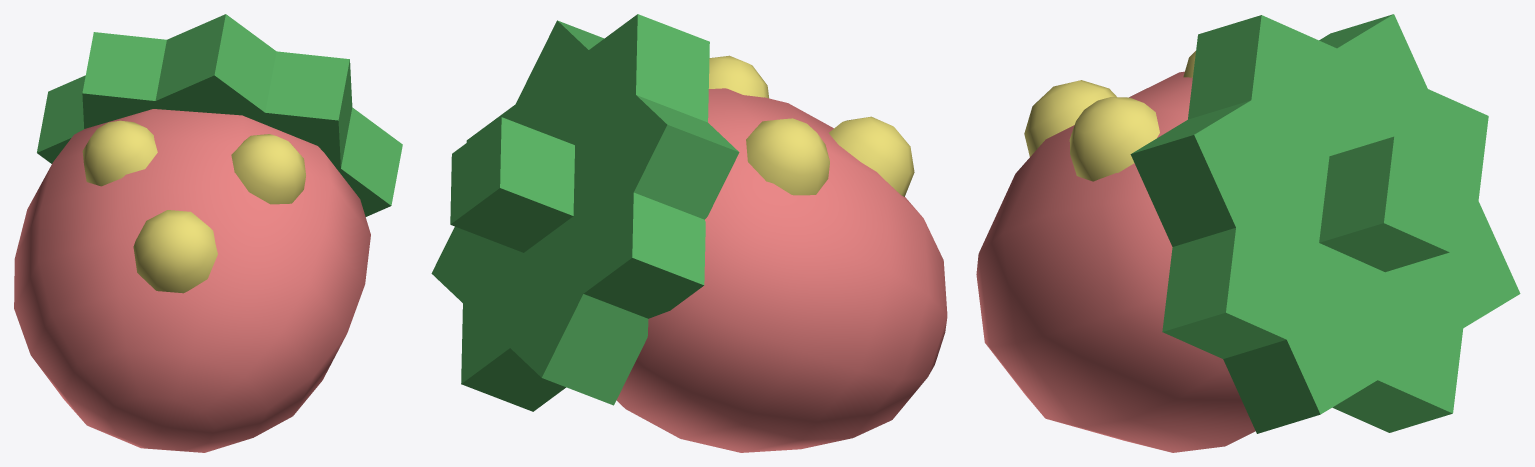
File: Strawberry.fbx
3 views of the same model, side by side, from view 1: azimuth 30°, elevation 25°; view 2: azimuth 150°, elevation 25°; view 3: azimuth 270°, elevation 25° (orthographic). The views are drawn at different scales.
Visible parts, largest first — view 1: Strawberry4; view 2: Strawberry4; view 3: Strawberry4.
Part boxes in pixels (x1,y1,x2,y2): Strawberry4: [14, 14, 402, 452]; Strawberry4: [431, 14, 947, 452]; Strawberry4: [976, 14, 1520, 452].
Size of the model in its own units: 64.44 by 60.45 by 64.9.
